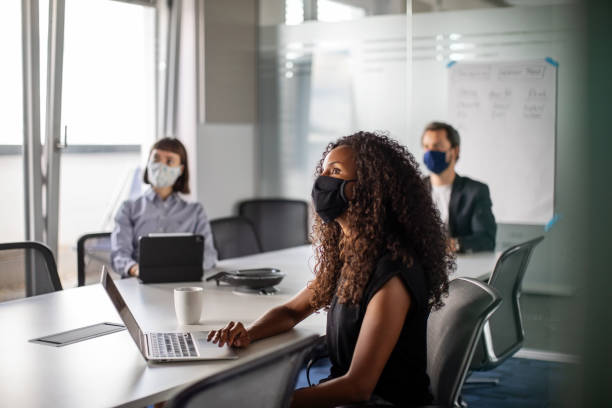with mask: (290, 128, 387, 225), (138, 135, 193, 196), (408, 123, 465, 177)
